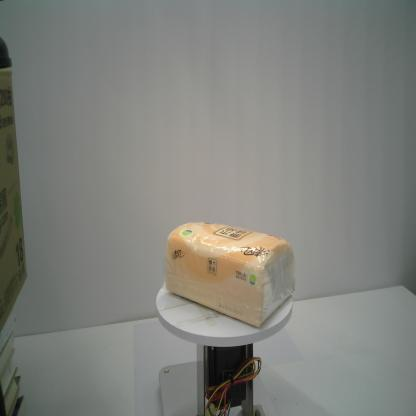Tissue: (164, 220, 297, 330)
